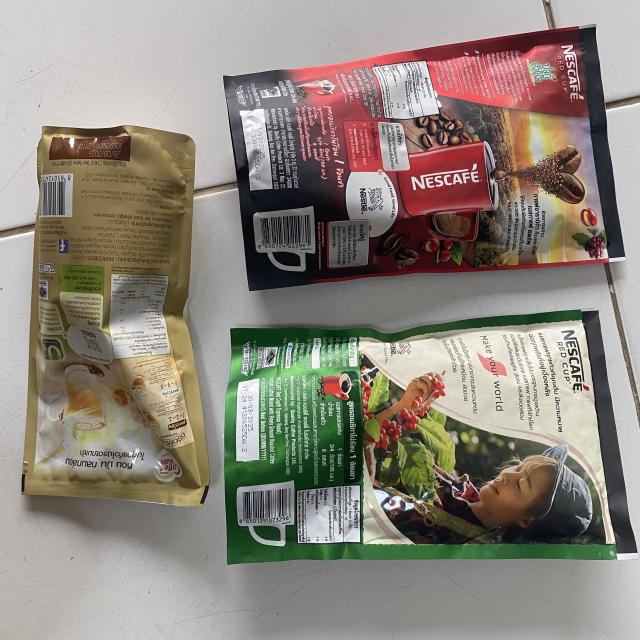plastik: (224, 25, 625, 290), (225, 310, 636, 564), (21, 126, 209, 506)
